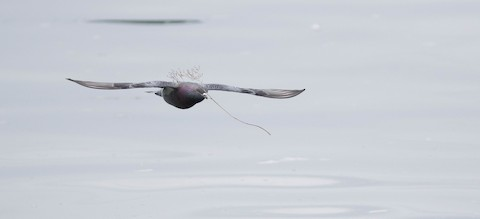pigeon: (63, 67, 309, 113)
